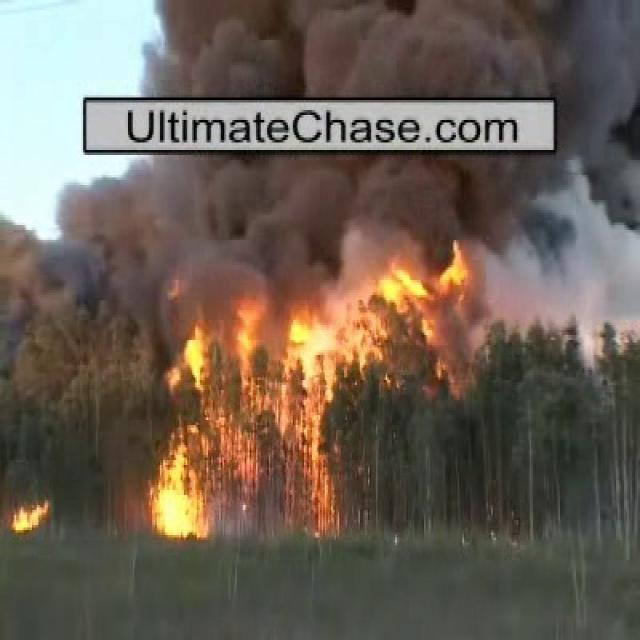Fire: (156, 291, 467, 539)
Smoke: (148, 11, 624, 262)
